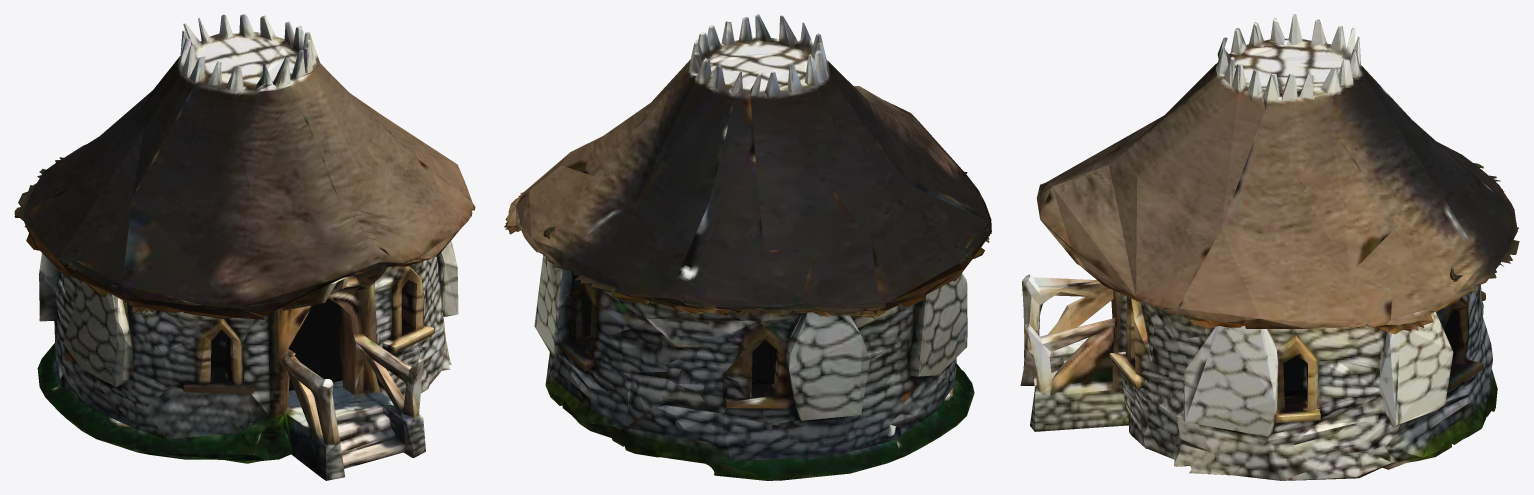
Rendered from ogre_hut_01.glb.
The picture shows the model from 3 angles, left to right: view 1: azimuth 30°, elevation 25°; view 2: azimuth 150°, elevation 25°; view 3: azimuth 270°, elevation 25°; orthographic projection. The views are drawn at different scales.
Parts seen in each view (by area): view 1: geometry_0; view 2: geometry_0; view 3: geometry_0.
Part boxes in pixels (box(x1,y1,x2,y2)): geometry_0: box(14, 14, 475, 480); geometry_0: box(504, 14, 991, 480); geometry_0: box(1020, 14, 1519, 480).
Size of the model in its own units: 0.956 by 0.7979 by 0.9968.
1 material, 1 textured.
